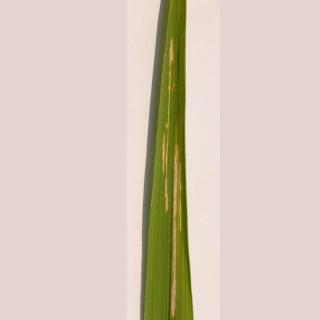Hawar-Daun: (158, 46, 191, 320)
